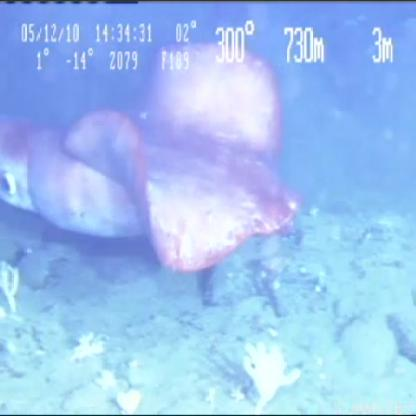Bio: (1, 36, 305, 281)
